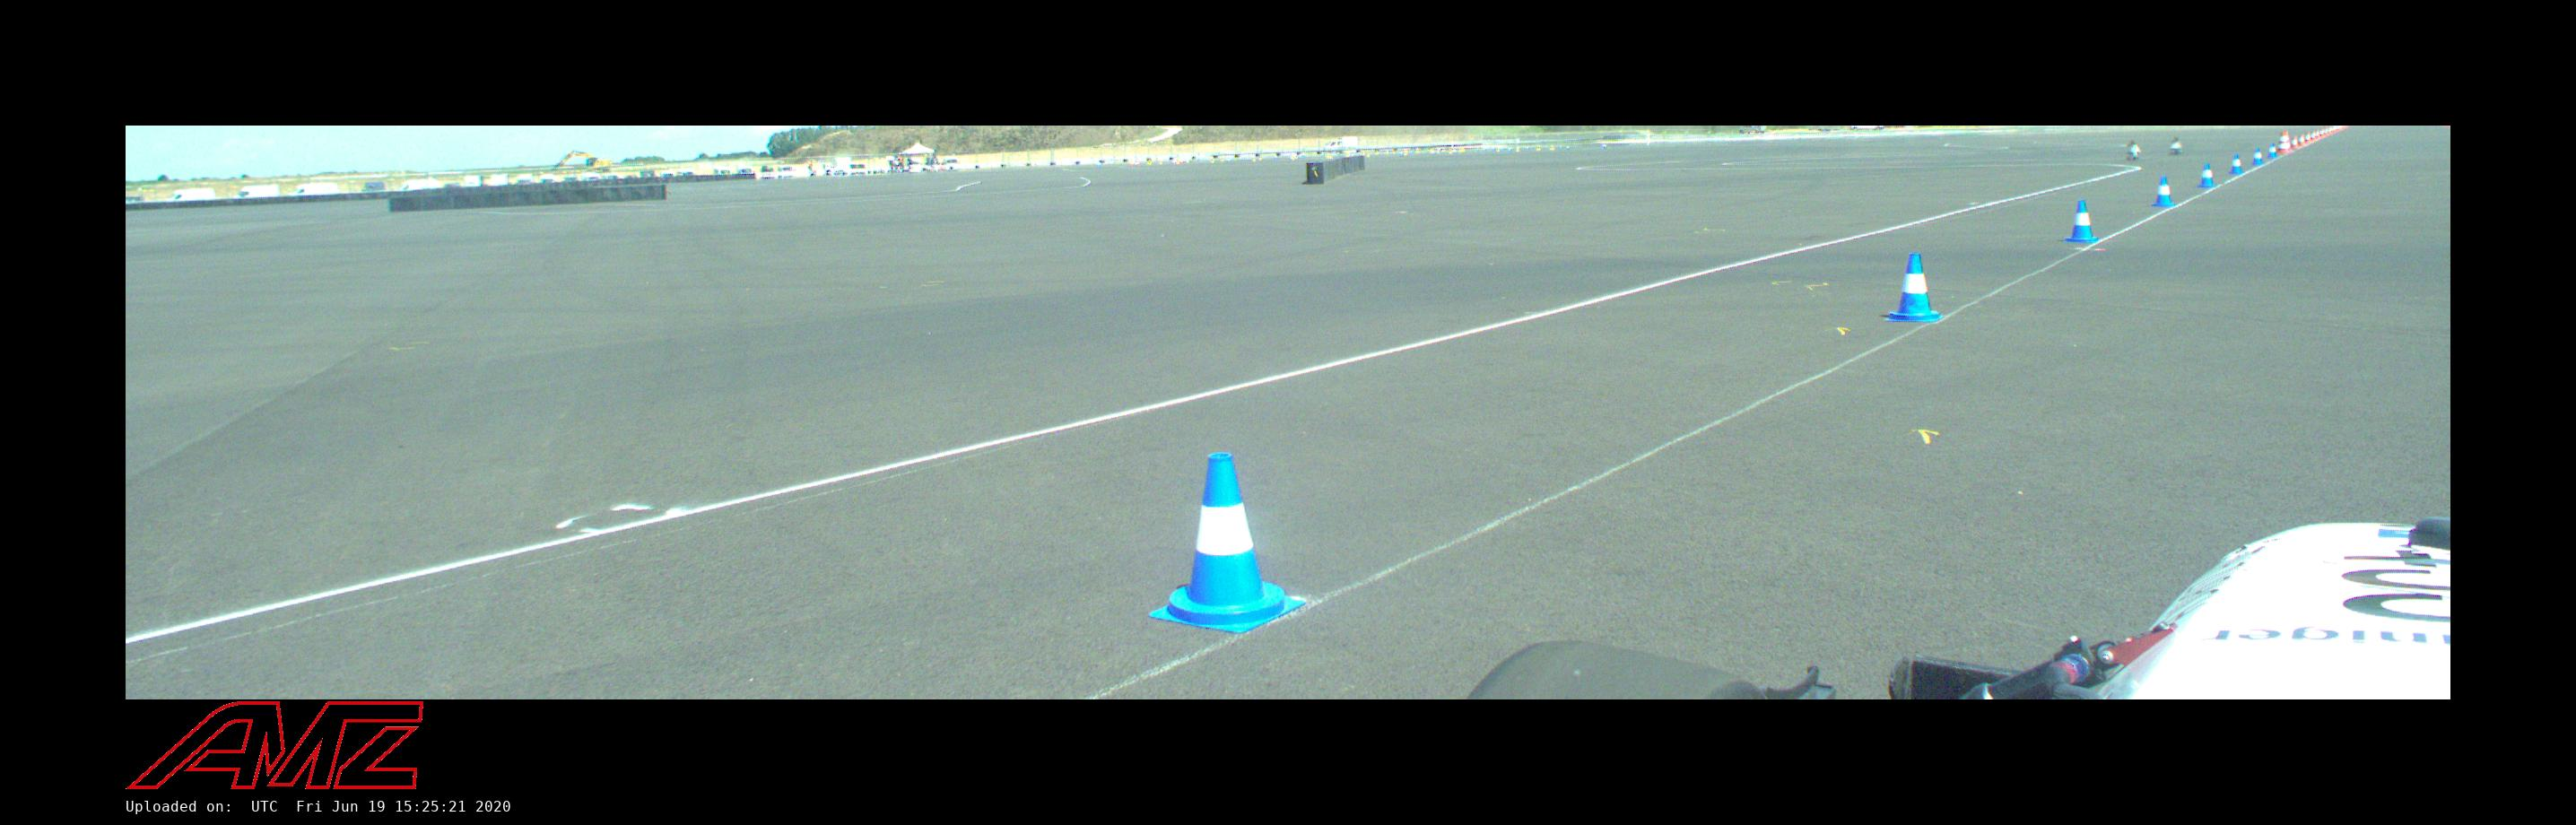blue_cone: (1147, 454, 1304, 634), (1884, 253, 1944, 322), (2062, 200, 2100, 243), (2152, 176, 2177, 209), (2198, 163, 2218, 189), (2228, 154, 2246, 174), (2251, 148, 2266, 164), (2267, 143, 2279, 159)
large_orange_cone: (2275, 131, 2288, 153)
